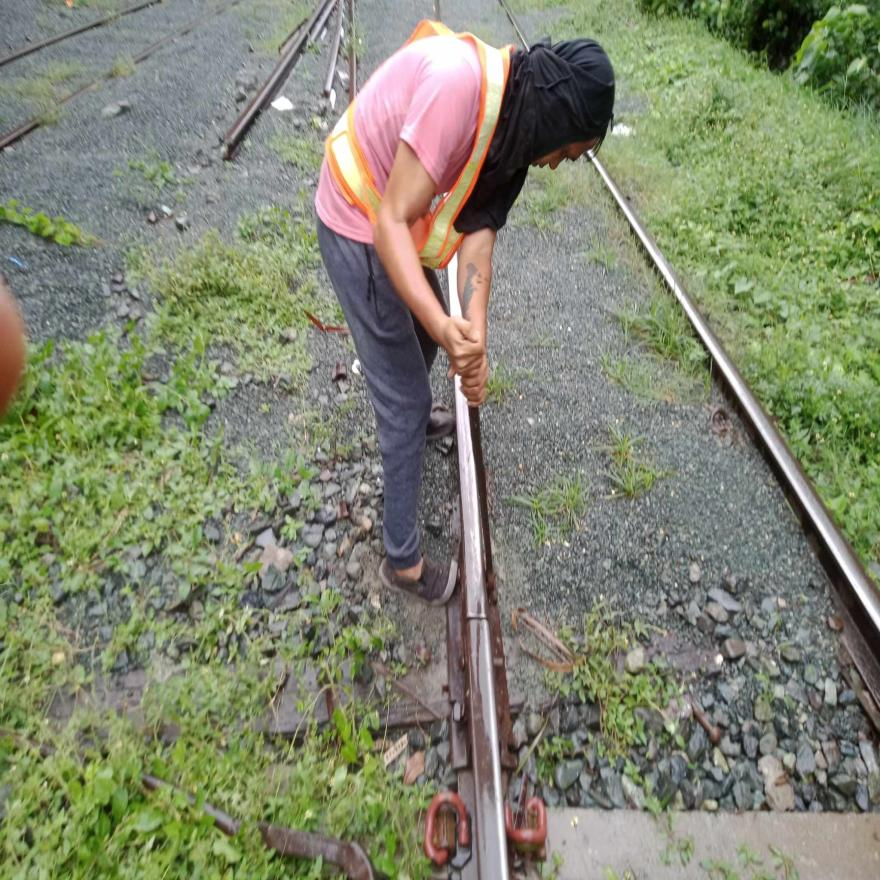railway-gap: (451, 586, 497, 643)
